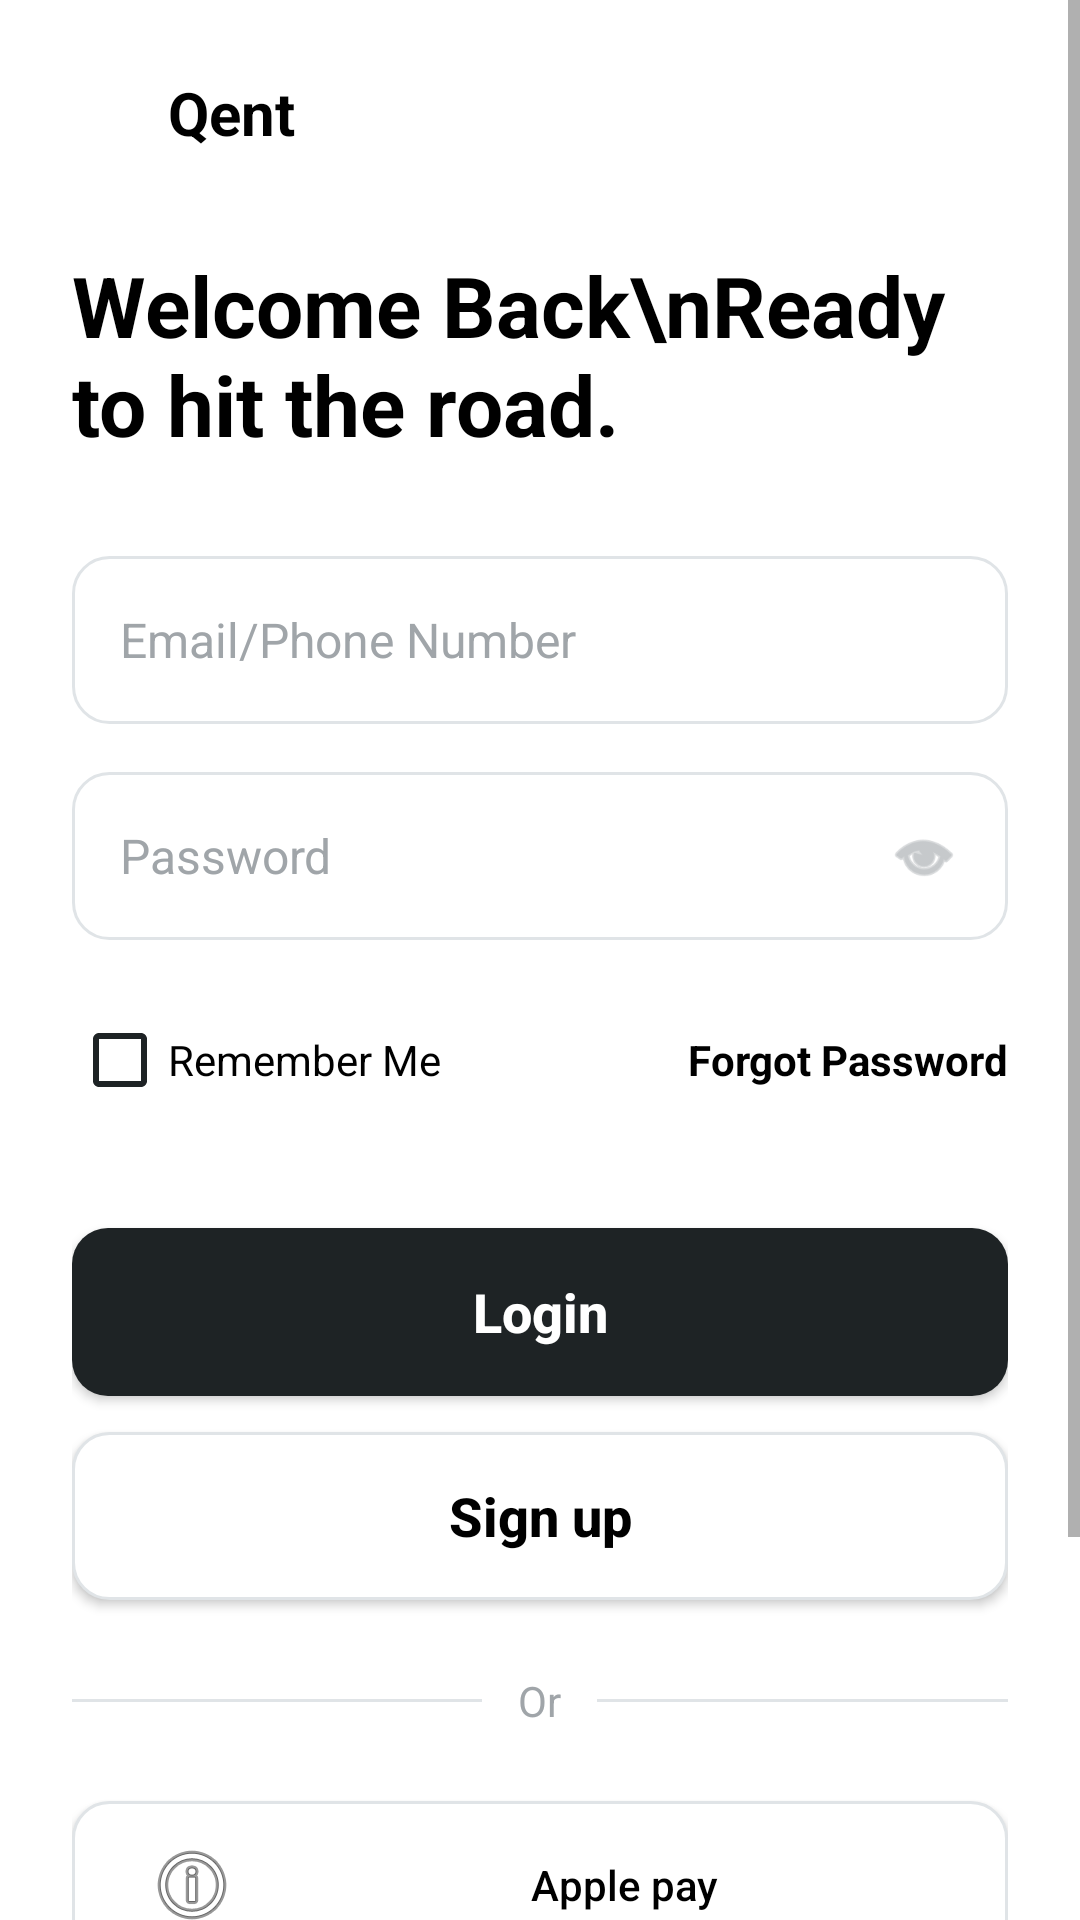

Icons on this 1080×1920 Android screen, each with the point to tap as (x=x, y=y):
view: (x=924, y=858)
